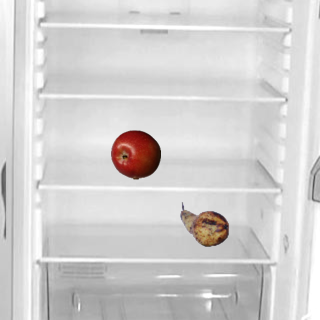Apple Braeburn: (110, 129, 160, 179)
Pear Abate: (179, 199, 229, 249)
